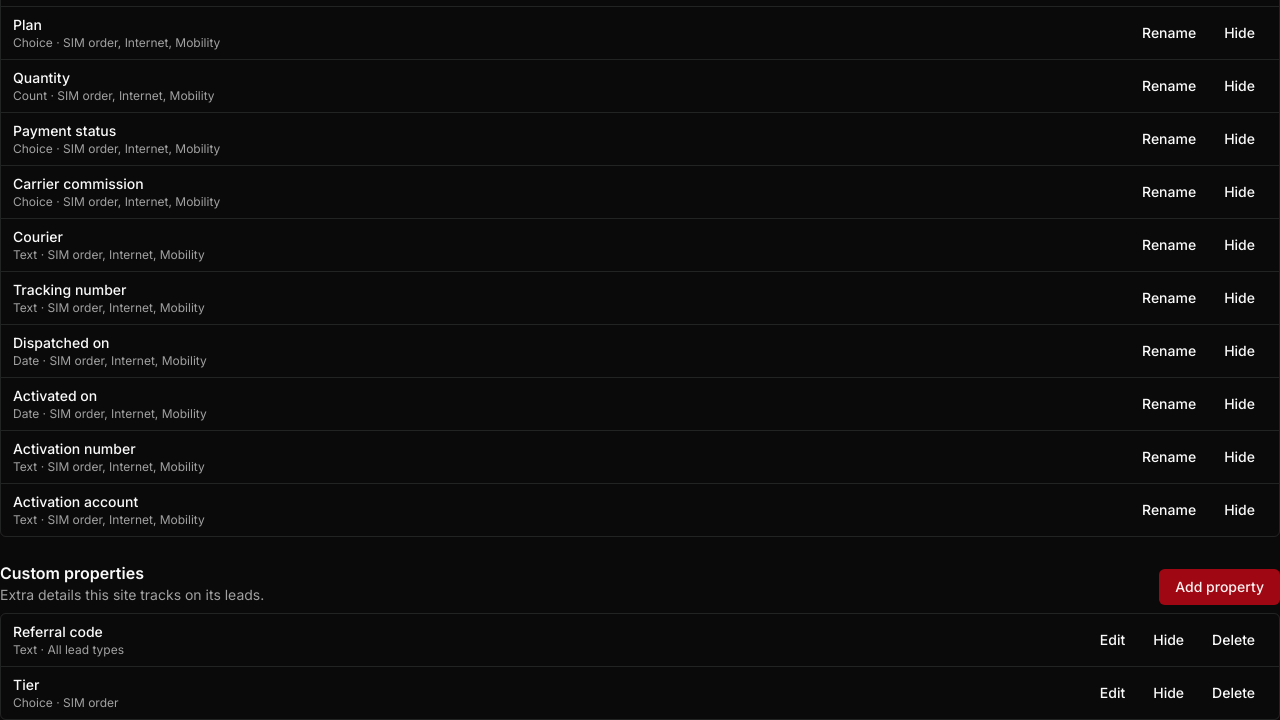
Test: PropertiesSettings properties › says which option is in use when removing it is refused
(page scrolled)
Expected: the list named "Custom properties" is shown, [0,613,1279,719]
Step 1. Click the button with aria-label "Edit Tier" → (1112, 693), box [1088,677,1137,709]
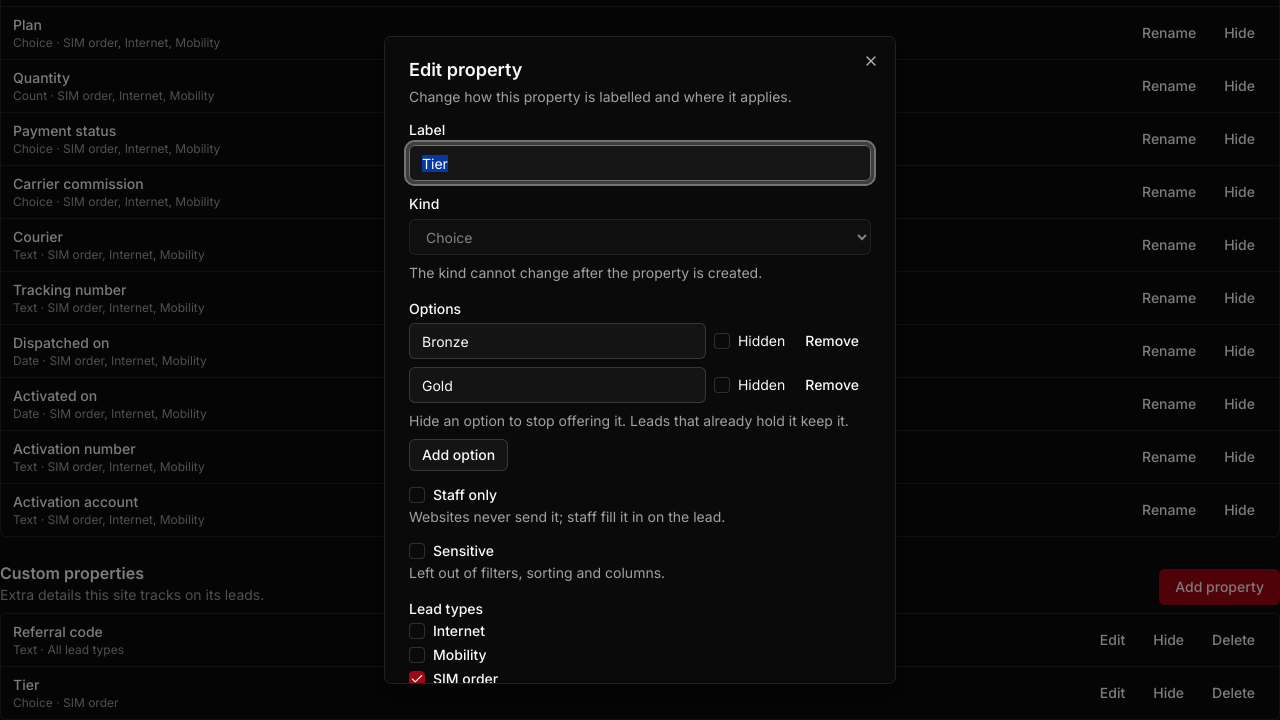
Step 2. Click the button with aria-label "Remove option 1" → (832, 341), box [793,325,871,357]
(page scrolled)
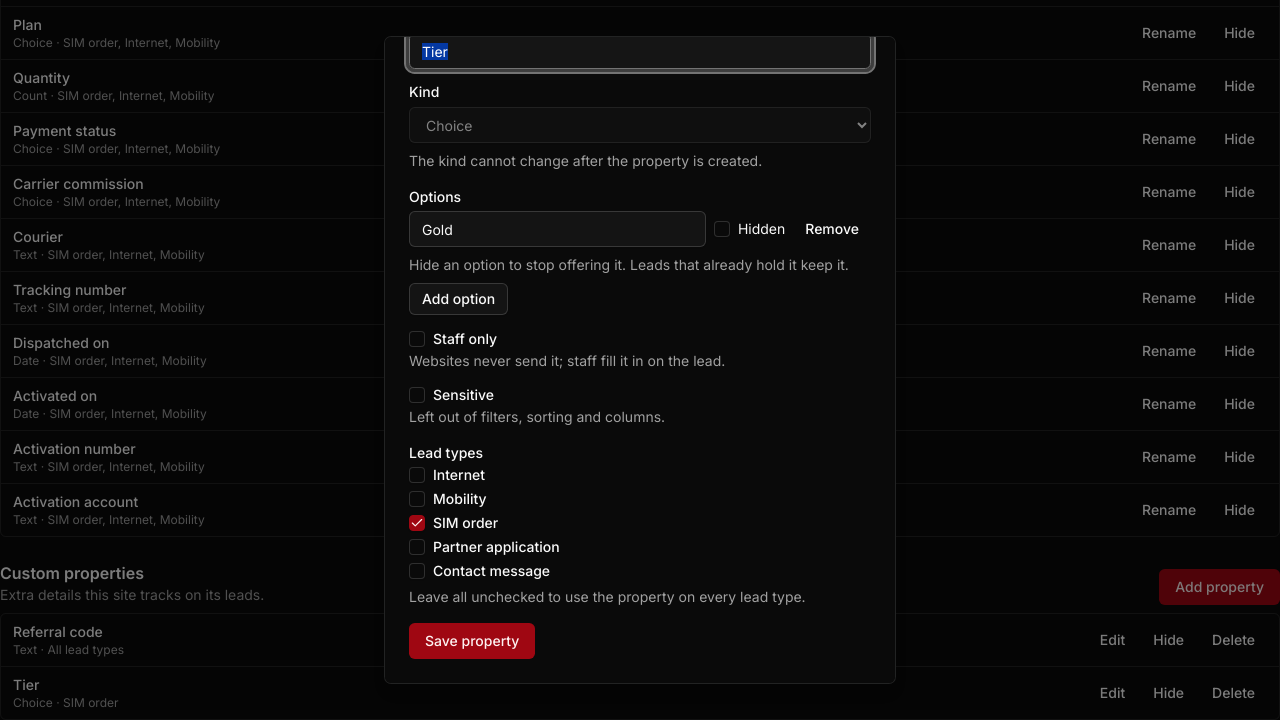
Step 3. Click the button "Save property" → (472, 641), box [409,623,535,659]
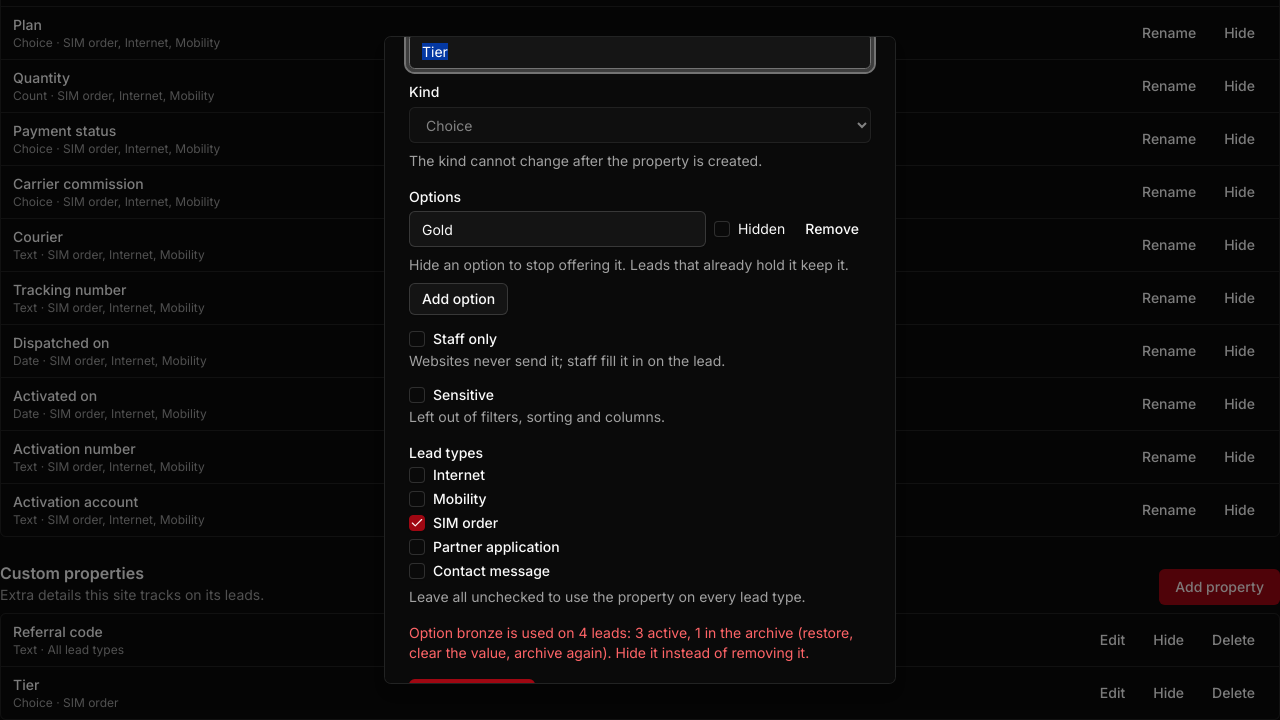
Result: the message shows "Option bronze is used on 4 leads: 3 active, 1 in the archive (restore, clear the value, archive again). Hide it instead of removing it." at [409,624,853,661]
